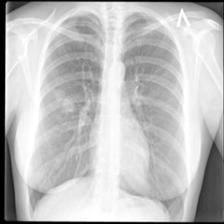tuberculosis: (23, 7, 192, 222)
